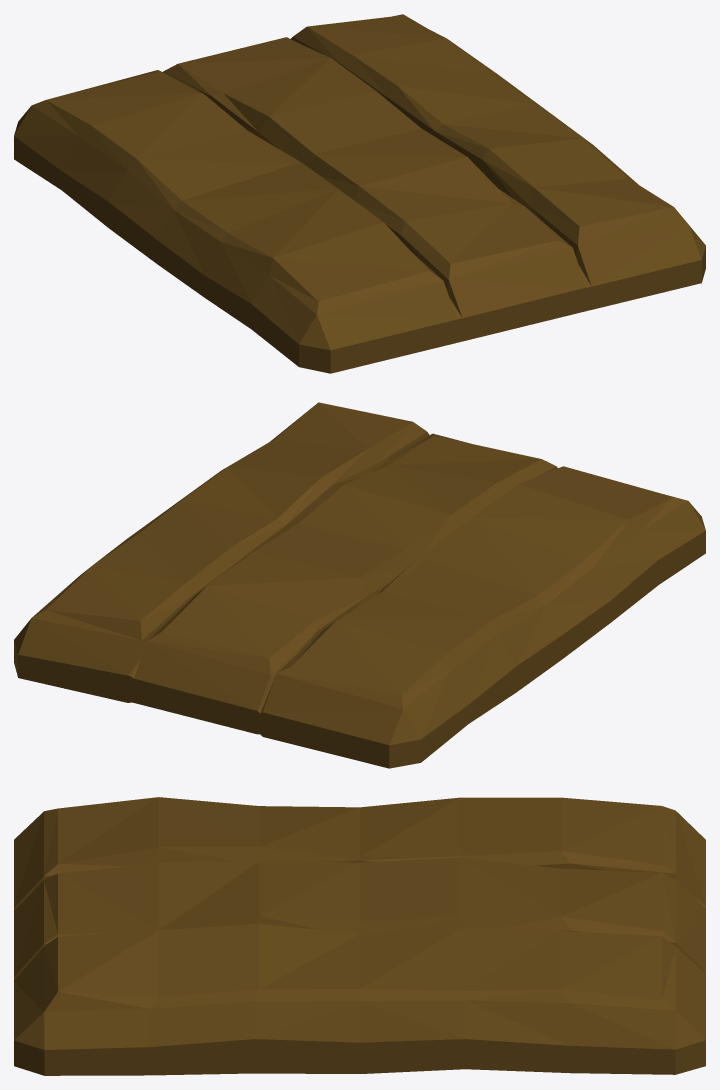
File: TierraCultivo.fbx
3 views of the same model, one above another, from view 1: azimuth 30°, elevation 25°; view 2: azimuth 150°, elevation 25°; view 3: azimuth 270°, elevation 25° (orthographic). The views are drawn at different scales.
Parts seen in each view (by area): view 1: Cube.001; view 2: Cube.001; view 3: Cube.001.
Boxes of the visible parts, box(x1,y1,x2,y2) form: Cube.001: box(14, 14, 705, 373); Cube.001: box(14, 402, 705, 768); Cube.001: box(14, 797, 705, 1075).
Bounding box in the file's own units: 2078 × 389 × 2762.
